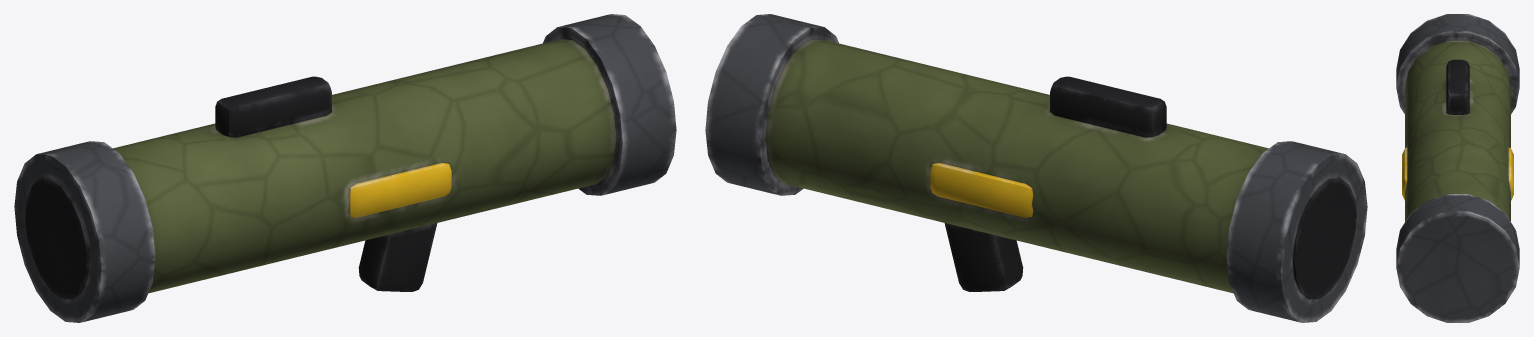
The model's file is pk_rlaunch.glb.
3 renders of one model, left to right at view 1: azimuth 30°, elevation 25°; view 2: azimuth 150°, elevation 25°; view 3: azimuth 270°, elevation 25°, orthographic. The views are drawn at different scales.
Parts seen in each view (by area): view 1: pk_rlaunch; view 2: pk_rlaunch; view 3: pk_rlaunch.
Boxes of the visible parts, x1,y1,x2,y2 form: pk_rlaunch: (14, 14, 676, 322); pk_rlaunch: (705, 14, 1367, 322); pk_rlaunch: (1396, 14, 1519, 322).
Size of the model in its own units: 1 by 0.3823 by 0.2625.
1 material, 1 textured.
